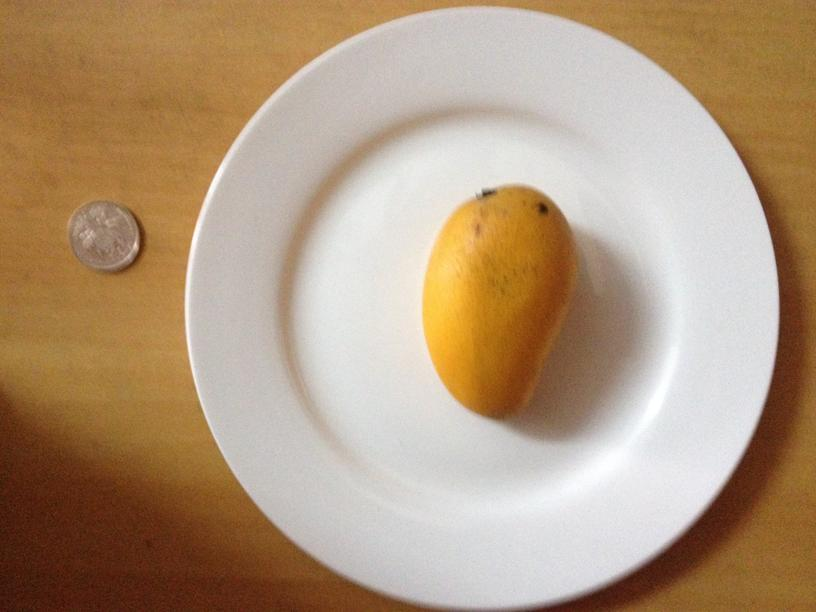coin: (68, 200, 141, 272)
mango: (417, 184, 574, 419)
